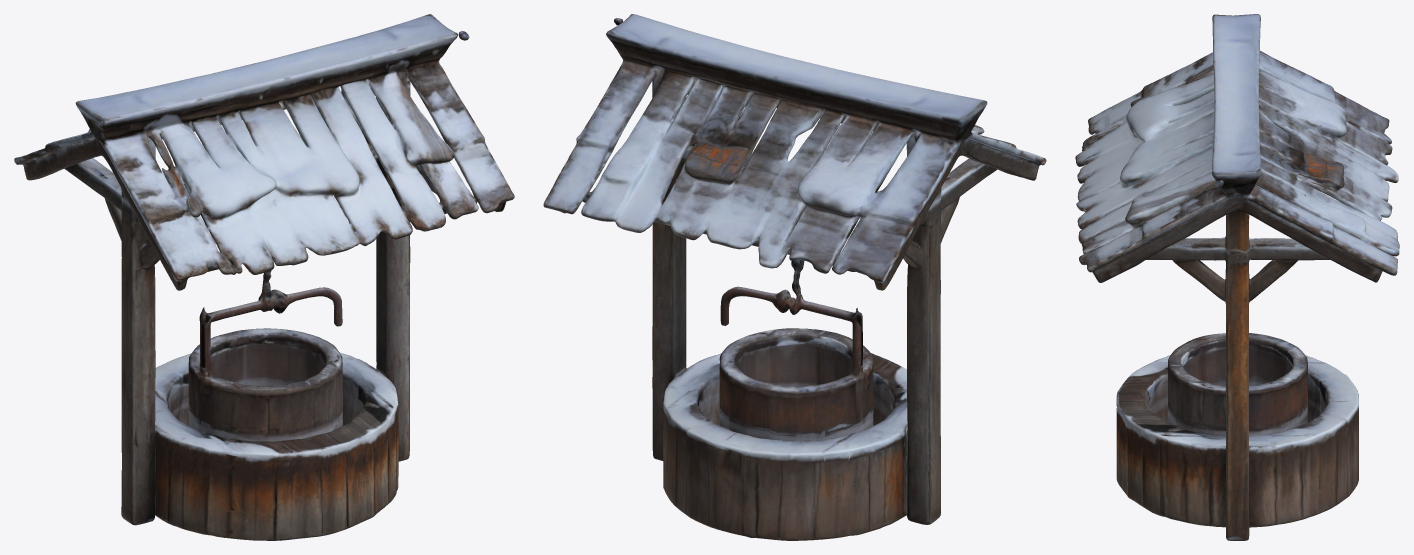
Rendered from An_old_village_well_i_1214114109_texture.glb.
3 renders of one model, left to right at view 1: azimuth 30°, elevation 25°; view 2: azimuth 150°, elevation 25°; view 3: azimuth 270°, elevation 25°, orthographic. The views are drawn at different scales.
Parts seen in each view (by area): view 1: Mesh_0; view 2: Mesh_0; view 3: Mesh_0.
Part boxes in pixels (box(x1,y1,x2,y2)): Mesh_0: box(14, 14, 514, 540); Mesh_0: box(543, 14, 1046, 540); Mesh_0: box(1075, 14, 1399, 540).
Bounding box in the file's own units: 1.83 × 2.02 × 1.51.
Materials: 1 (1 with a texture image).
